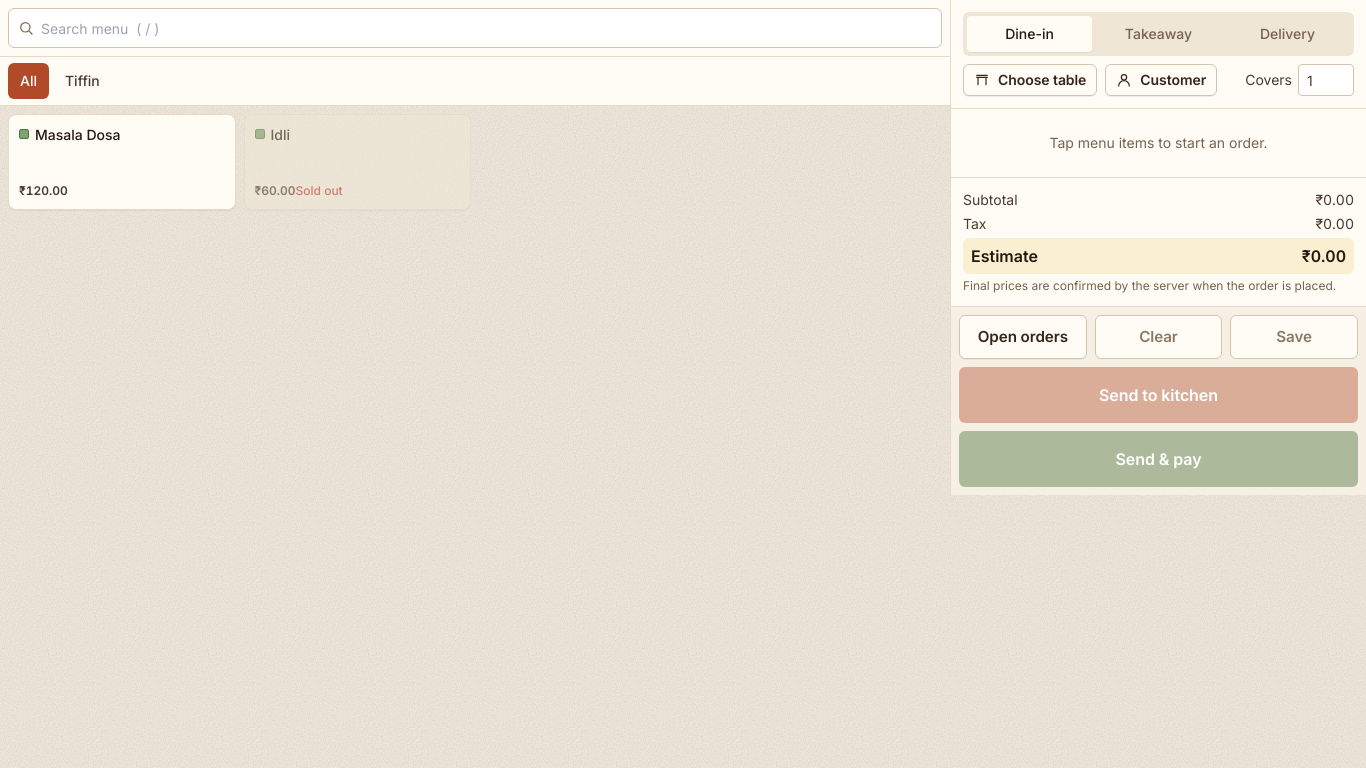
Test: POS › requires a table for dine-in and shows server validation errors
Click the button "Masala Dosa ₹120.00" at (122, 162), box [8,114,236,210]
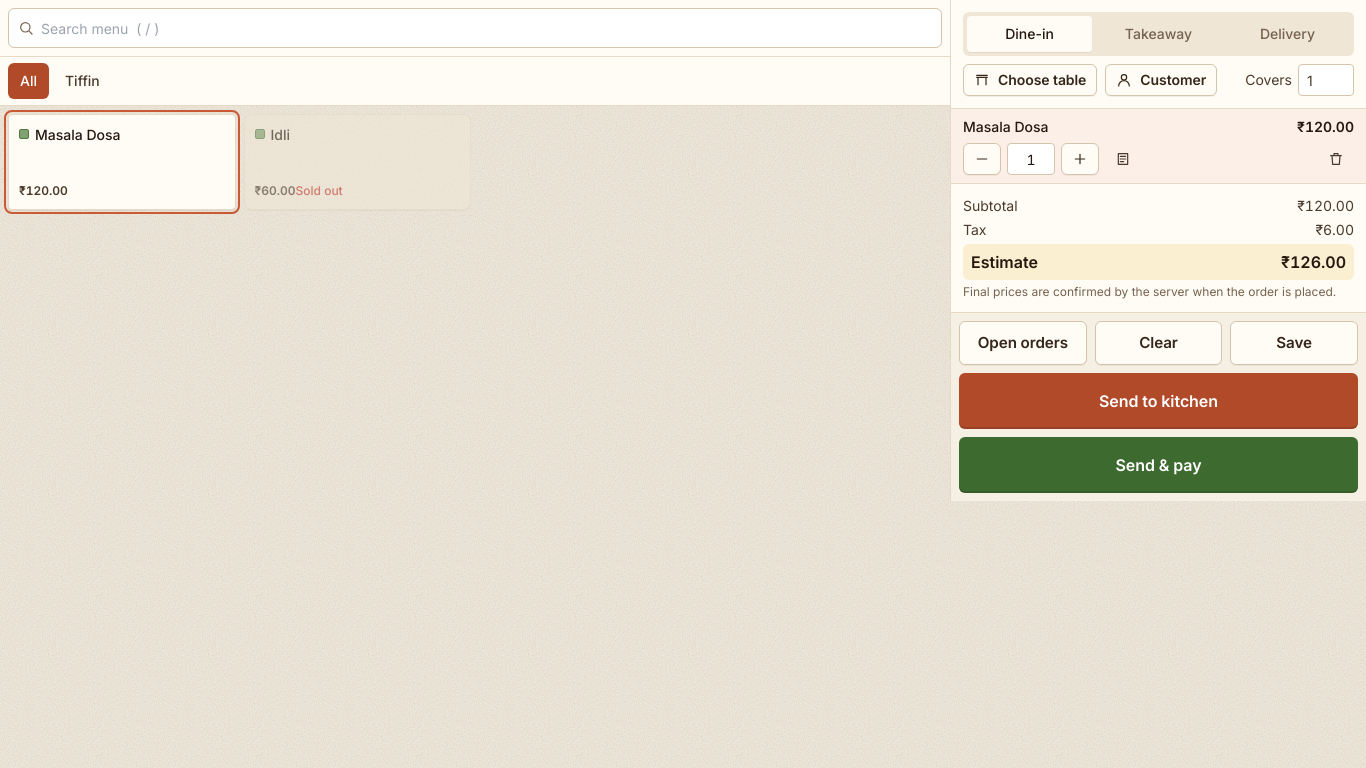
Click the button "Send to kitchen" at (1158, 401), box [959,373,1358,429]
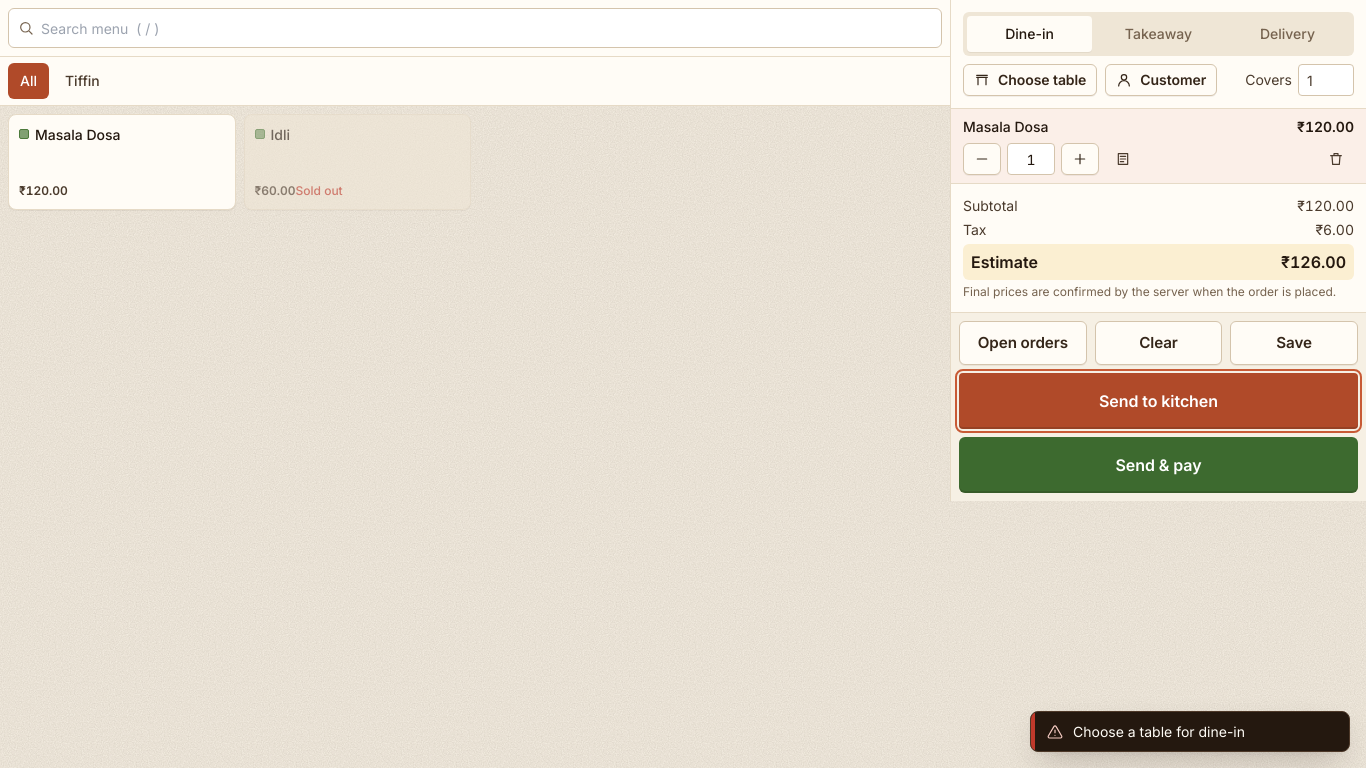
Expected: the message reads "Choose a table for dine-in", [1073,723,1245,740]
Click the radio button labelled "Takeaway" at (1158, 34), box [1096,16,1221,52]
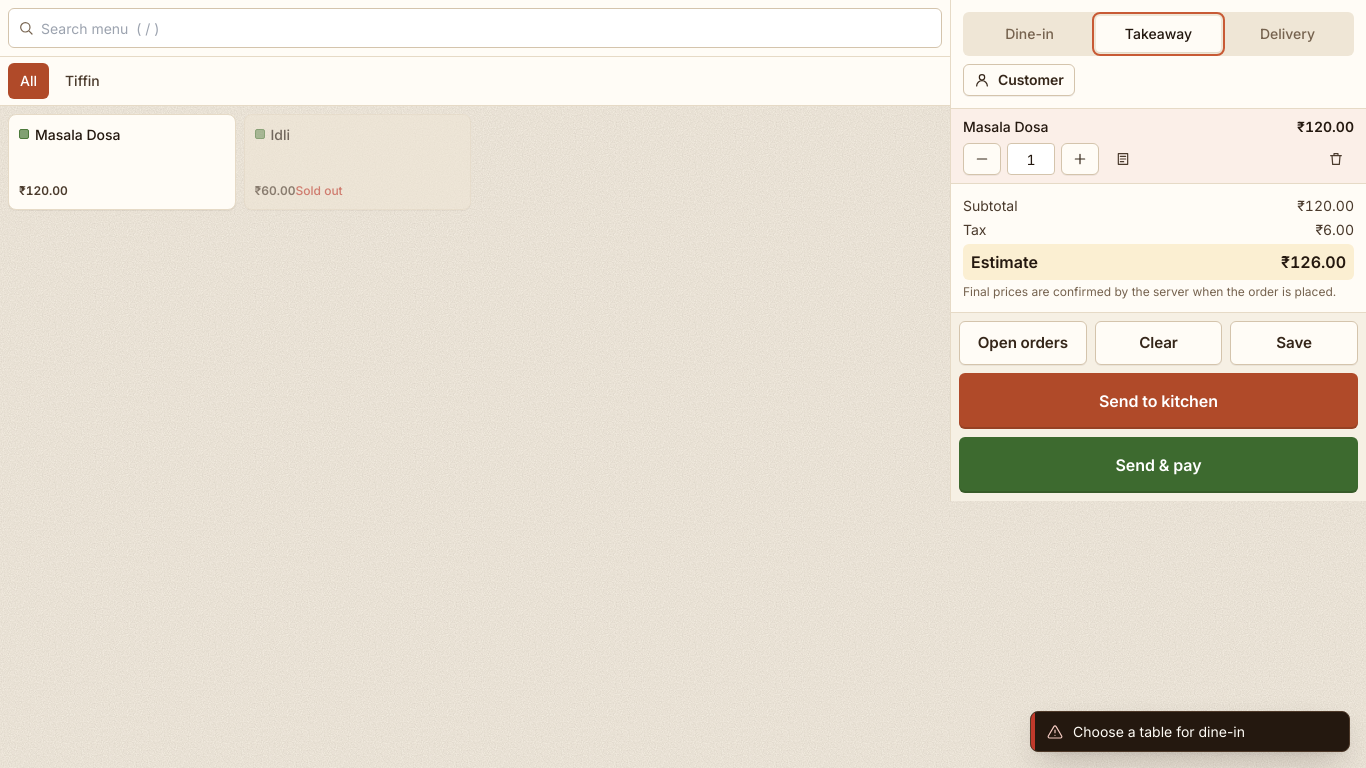
Click the button "Send to kitchen" at (1158, 401), box [959,373,1358,429]
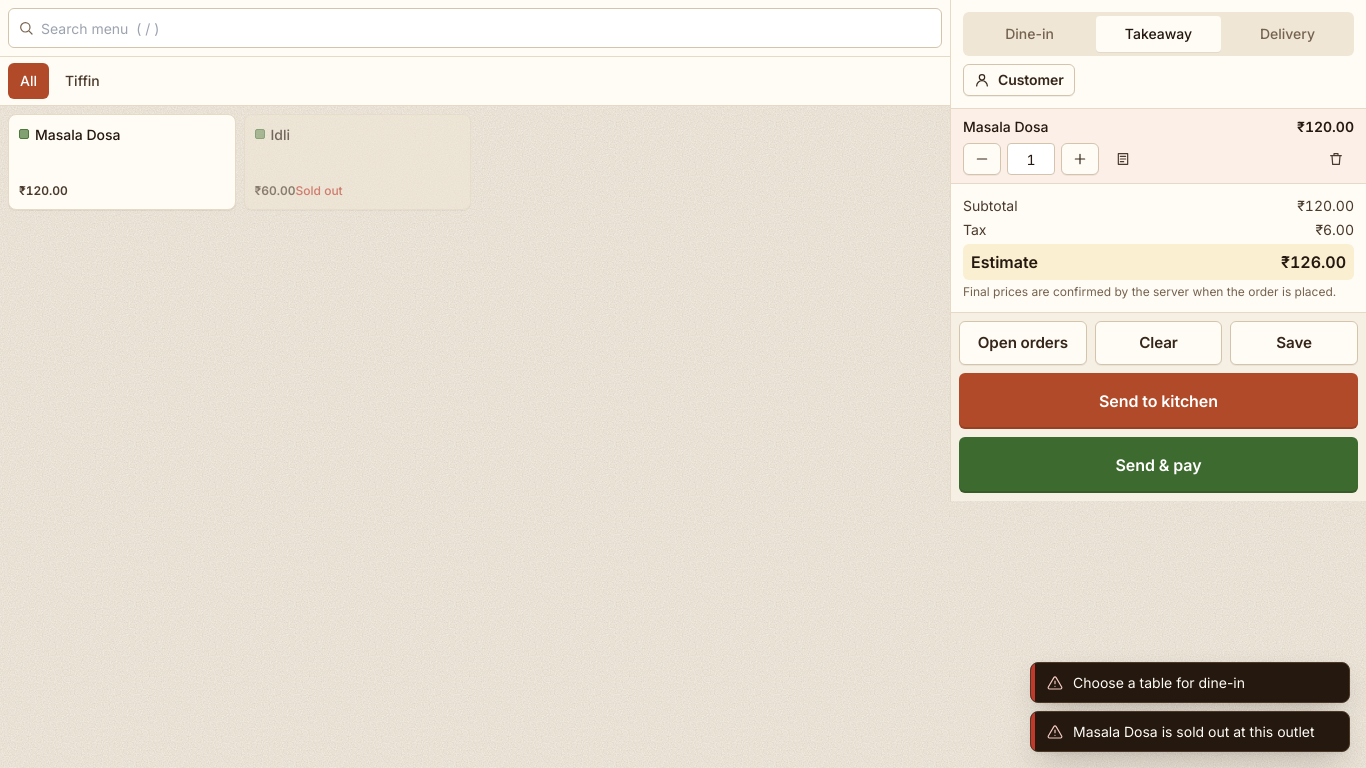
Expected: the text "Masala Dosa is sold out at this outlet" is shown, [1073,722,1315,741]
